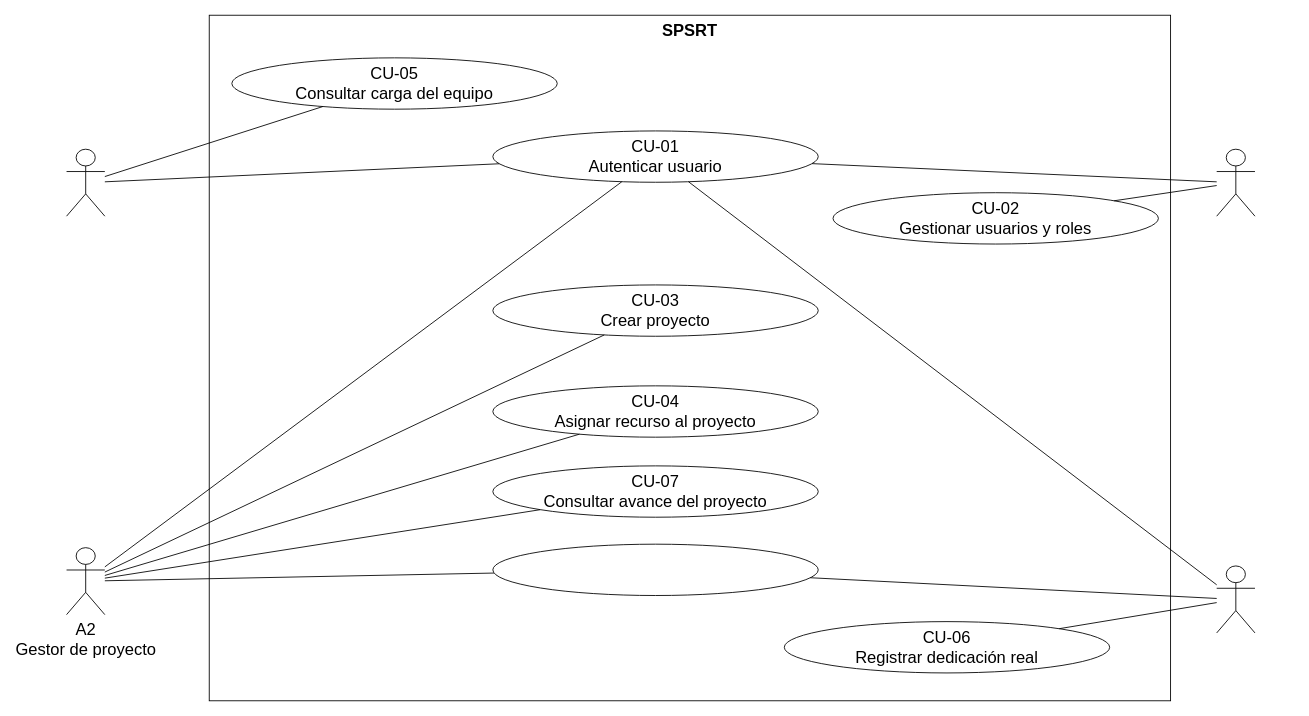
Some shapes in this 1309 by 716 pixel diagram are drawn without their labels. The shapes that lost their labels are listed below. From the top down, each one's box as (x1, y1, x2, y2) in pixels, then its label:
(66, 148, 105, 216): A1 Jefe del área
(1216, 148, 1255, 216): A4 Administrador
(492, 543, 818, 596): CU-08 Registrar variación
(1216, 565, 1255, 633): A3 Recurso técnico
